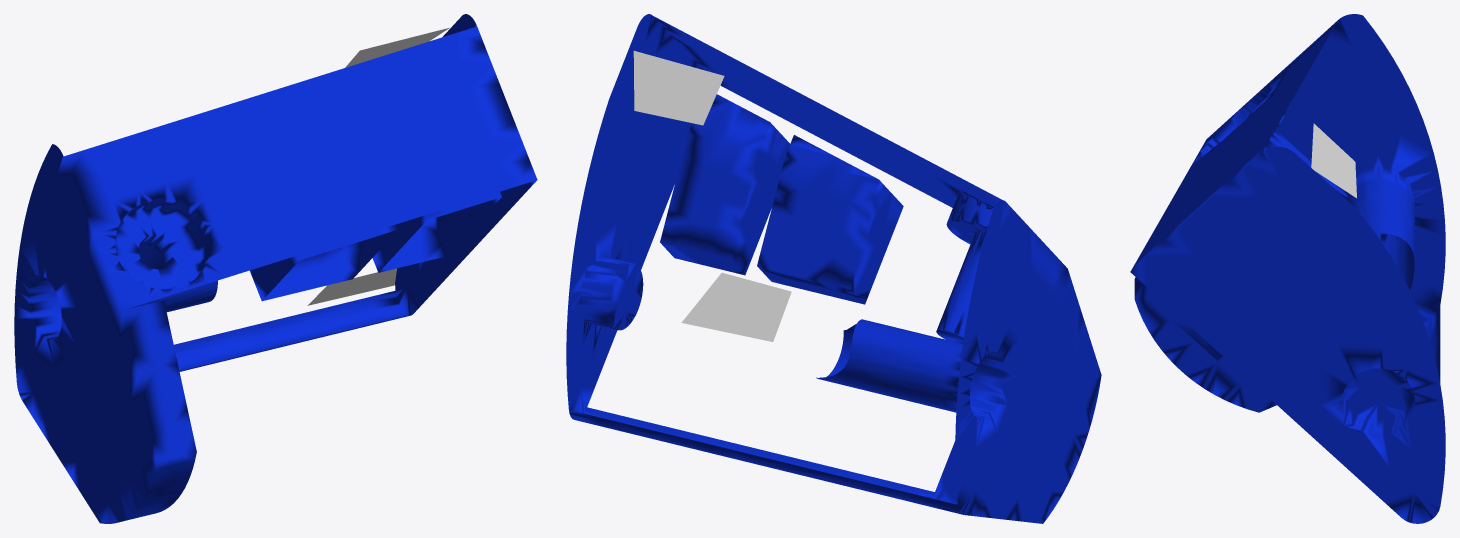
Rendered from cpd_l2.obj.
The picture shows the model from 3 angles, left to right: view 1: azimuth 30°, elevation 25°; view 2: azimuth 150°, elevation 25°; view 3: azimuth 270°, elevation 25°; orthographic projection. The views are drawn at different scales.
Size of the model in its own units: 41.57 by 42.9 by 27.47.
